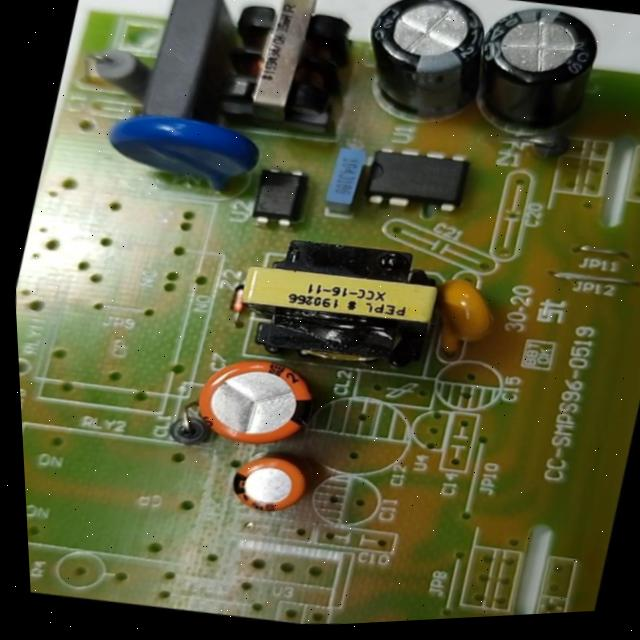Cap1: (179, 339, 334, 462)
Cap2: (217, 440, 325, 530)
Cap3: (339, 0, 506, 135)
Cap4: (449, 0, 622, 150)
MOSFET: (343, 127, 485, 225)
Mov: (84, 91, 279, 212)
Resistor: (72, 39, 182, 112)
Transformer: (215, 216, 465, 394), (194, 0, 379, 153)
